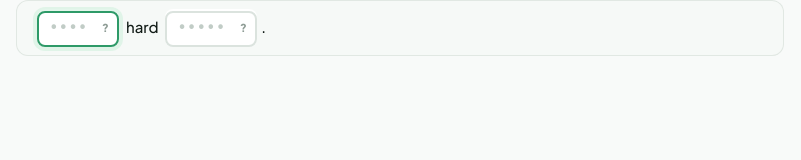
Test: FillInBlanksDictation › marks wrong characters with aria-invalid='true' and red styling immediately without Enter
Type "wo" into the field named "Blank 1" at point(78, 29), box [37,11,119,47]
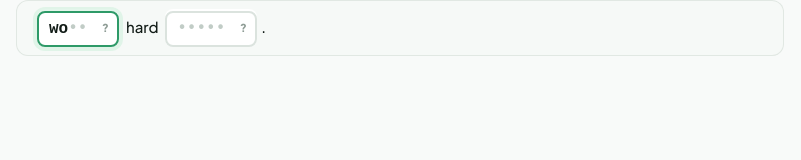
Replace the text in the field named "Blank 1" with "wox" at point(78, 29), box [37,11,119,47]
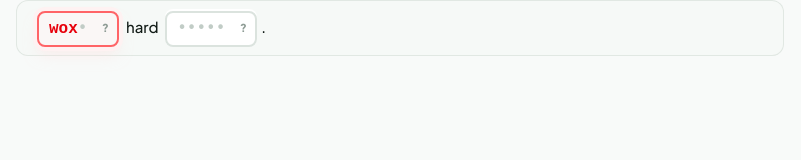
expect the field named "Blank 1" is marked as invalid: met, box [37,11,119,47]
expect the field named "Blank 1" has class "border-red-400": met, box [37,11,119,47]
expect the field named "Blank 1" has class "text-red-600": met, box [37,11,119,47]
